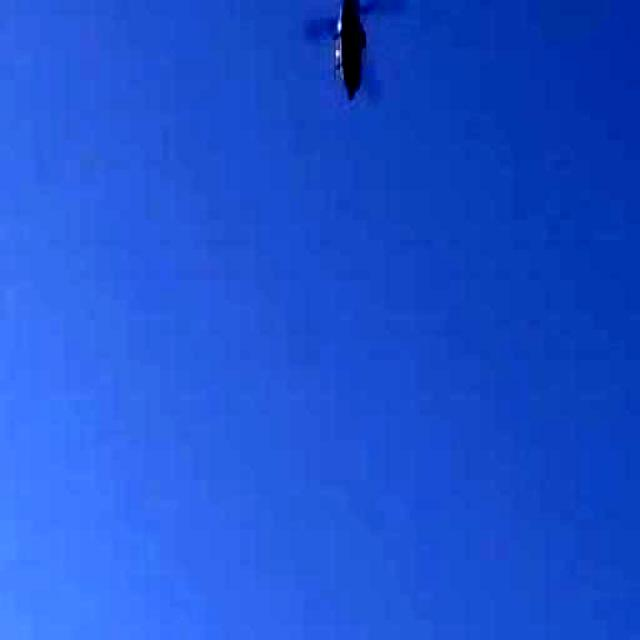drone: (286, 0, 418, 115)
